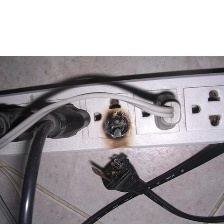three_eye_plug: (0, 67, 224, 161)
